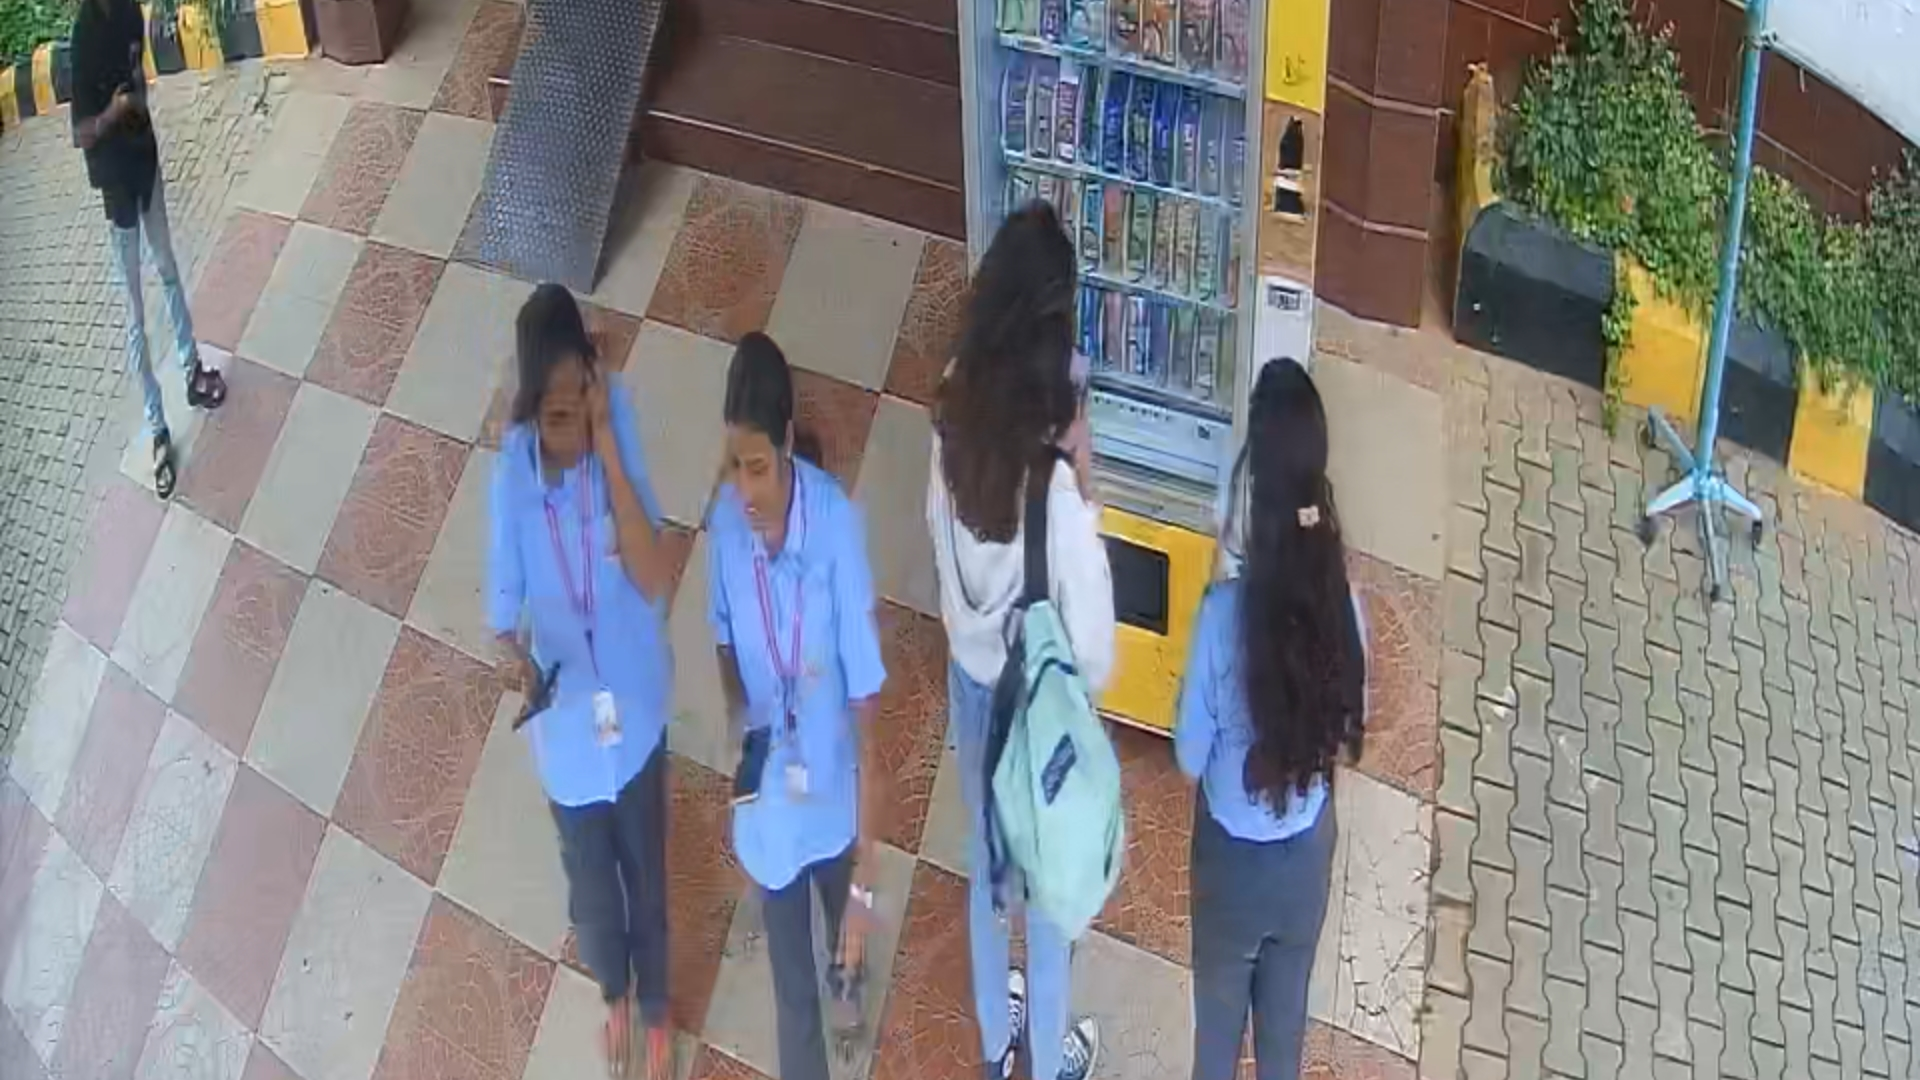not intruder: (481, 316, 691, 1019), (704, 347, 884, 1039)
